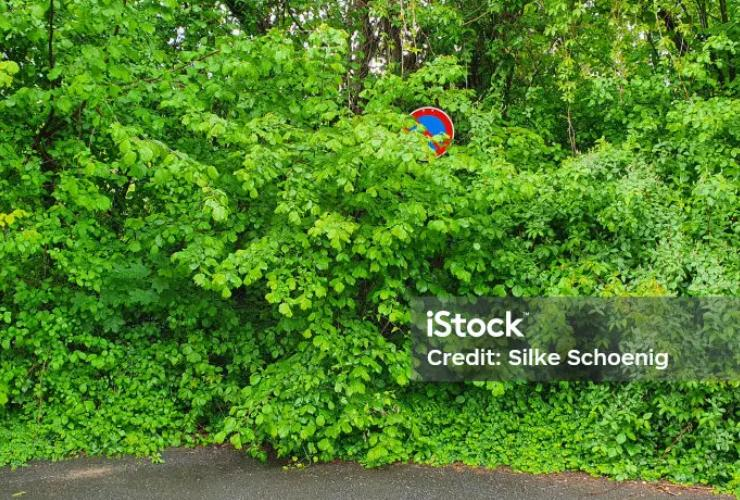obstructed_road_sign: (402, 106, 453, 154)
